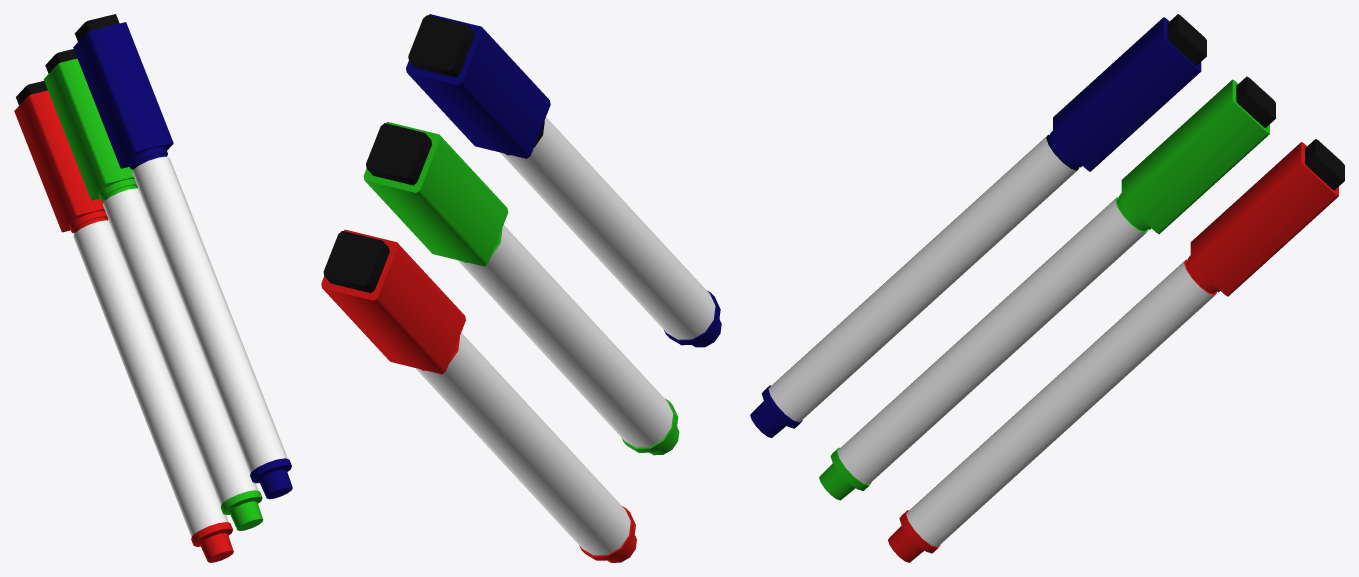
Rendered from CR02_ Markers.FBX.
The picture shows the model from 3 angles, left to right: view 1: azimuth 30°, elevation 25°; view 2: azimuth 150°, elevation 25°; view 3: azimuth 270°, elevation 25°; orthographic projection. The views are drawn at different scales.
Parts seen in each view (by area): view 1: CR02_ Marker_03, CR02_ Marker_01, CR02_ Marker_02; view 2: CR02_ Marker_03, CR02_ Marker_02, CR02_ Marker_01; view 3: CR02_ Marker_02, CR02_ Marker_01, CR02_ Marker_03.
Part boxes in pixels (left/top/right/bottom): CR02_ Marker_03: left=73, top=14, right=292, bottom=499; CR02_ Marker_01: left=14, top=81, right=233, bottom=562; CR02_ Marker_02: left=43, top=49, right=263, bottom=530; CR02_ Marker_03: left=406, top=14, right=721, bottom=347; CR02_ Marker_02: left=363, top=122, right=679, bottom=455; CR02_ Marker_01: left=321, top=229, right=636, bottom=562; CR02_ Marker_02: left=819, top=76, right=1275, bottom=500; CR02_ Marker_01: left=888, top=139, right=1344, bottom=562; CR02_ Marker_03: left=750, top=14, right=1206, bottom=437.
Bounding box in the file's own units: 19.29 × 216 × 216.
